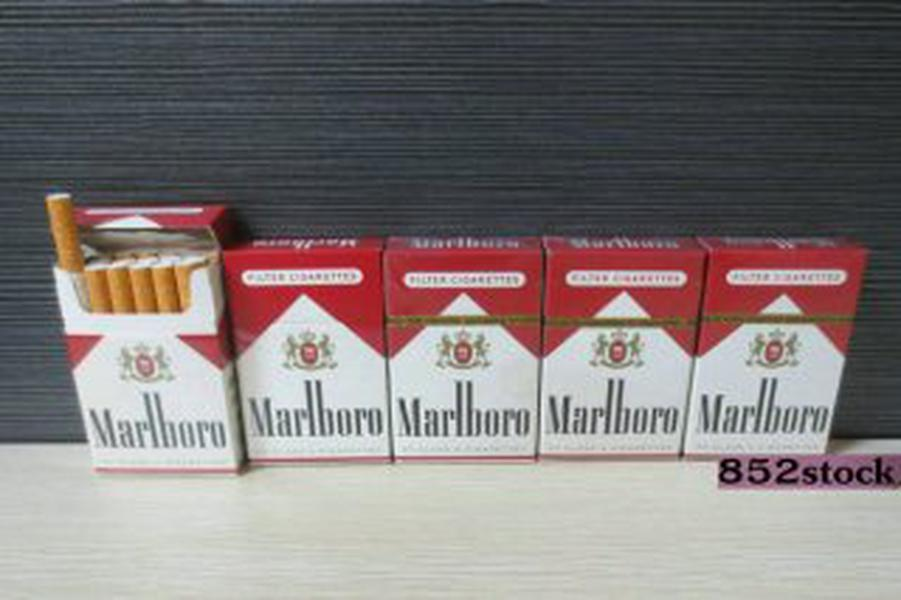marlboro_red: (383, 254, 542, 463), (237, 254, 386, 464), (542, 254, 687, 456), (697, 251, 839, 456), (79, 296, 237, 472)
